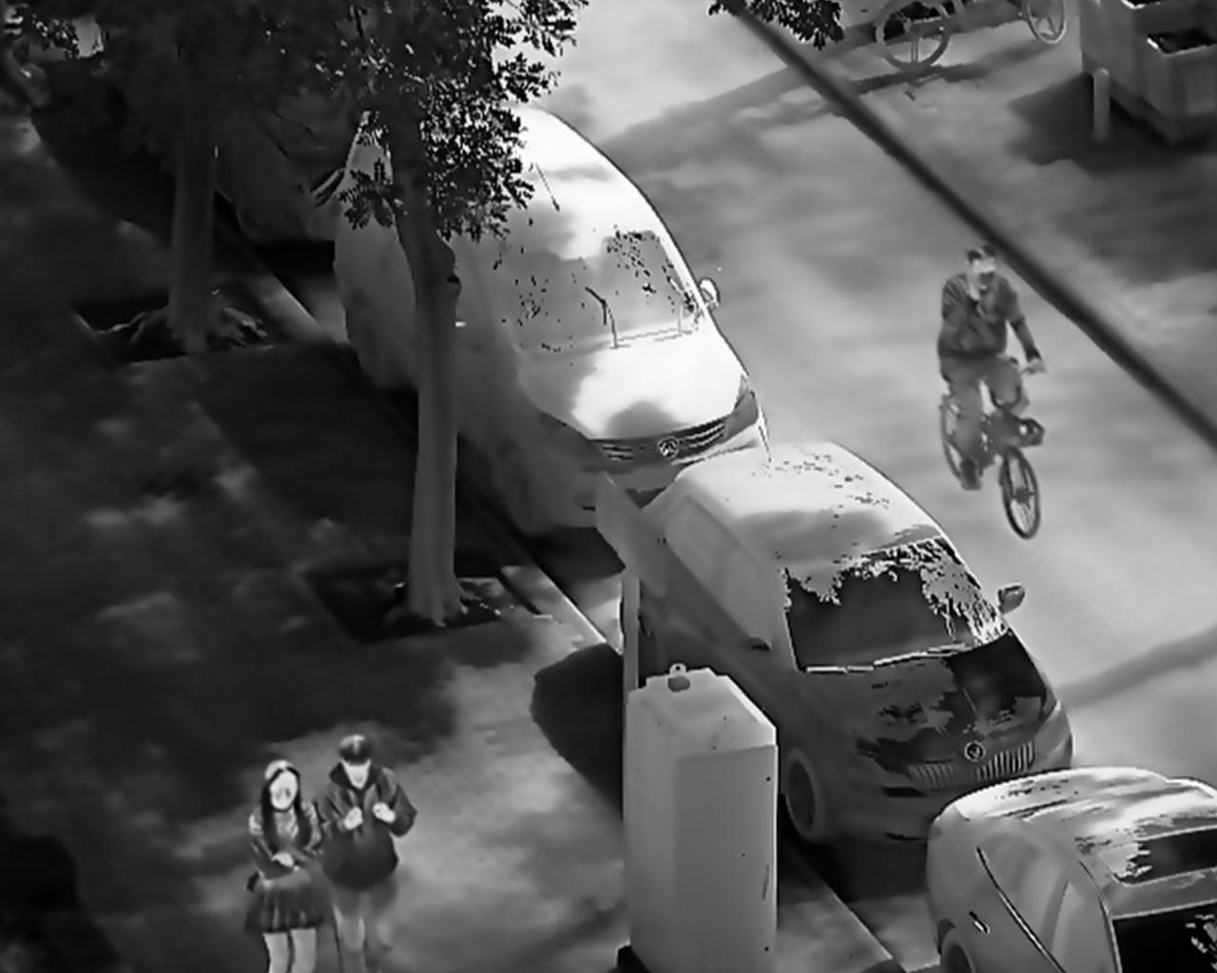person: (937, 244, 1051, 495), (315, 731, 420, 973), (245, 756, 329, 973)
